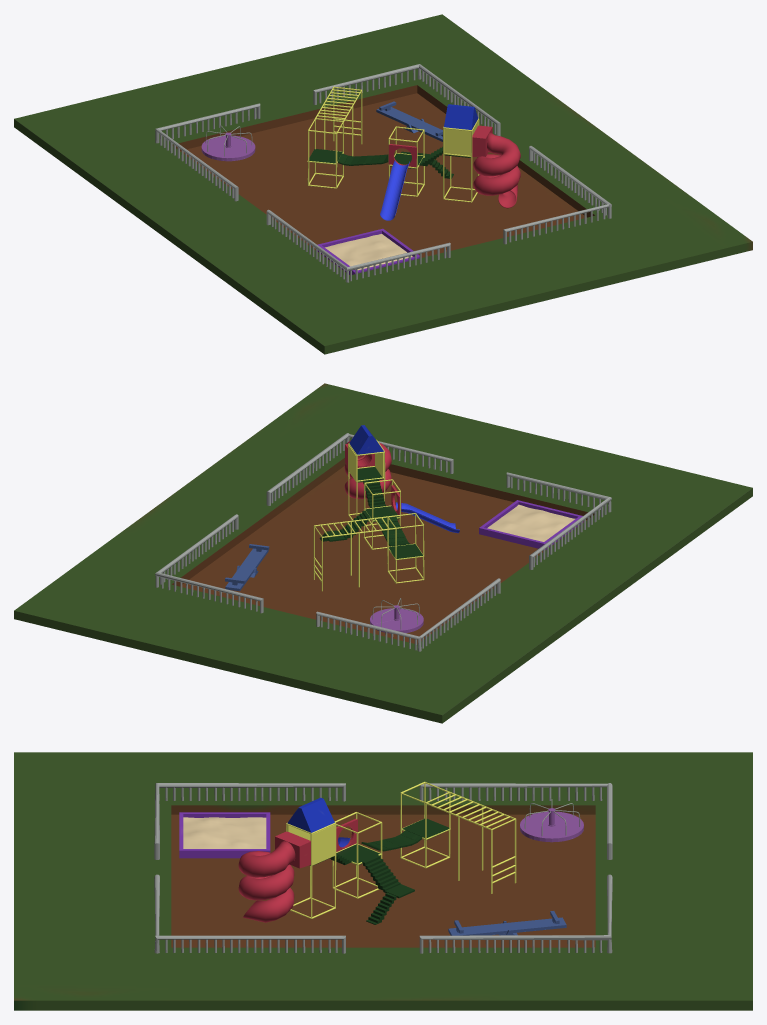
File: Level2_Updated.fbx
The picture shows the model from 3 angles, top to bottom: view 1: azimuth 30°, elevation 25°; view 2: azimuth 150°, elevation 25°; view 3: azimuth 270°, elevation 25°; orthographic projection. The views are drawn at different scales.
Visible parts, largest first — view 1: ParkFloor, JungleGym, Fence, Sandbox, MGR_Platform, JungleGym_StraightSlide, SeeSawCenter; view 2: ParkFloor, Fence, JungleGym, Sandbox, MGR_Platform, SeeSawCenter; view 3: ParkFloor, JungleGym, Fence, Sandbox, MGR_Platform, SeeSawCenter.
Boxes of the visible parts, <box> form: ParkFloor: <box>14,14,752,354</box>; JungleGym: <box>307,86,520,208</box>; Fence: <box>155,64,611,282</box>; Sandbox: <box>317,228,419,274</box>; MGR_Platform: <box>201,132,255,161</box>; JungleGym_StraightSlide: <box>380,160,409,220</box>; SeeSawCenter: <box>376,101,442,141</box>; ParkFloor: <box>14,383,752,723</box>; Fence: <box>155,433,611,651</box>; JungleGym: <box>313,425,424,591</box>; Sandbox: <box>479,500,583,549</box>; MGR_Platform: <box>370,605,423,633</box>; SeeSawCenter: <box>225,544,269,591</box>; ParkFloor: <box>14,752,752,1010</box>; JungleGym: <box>238,781,516,924</box>; Fence: <box>154,783,612,953</box>; Sandbox: <box>179,812,270,858</box>; MGR_Platform: <box>520,808,583,842</box>; SeeSawCenter: <box>448,911,566,935</box>.
Size of the model in its own units: 6451 by 1349 by 8104.
